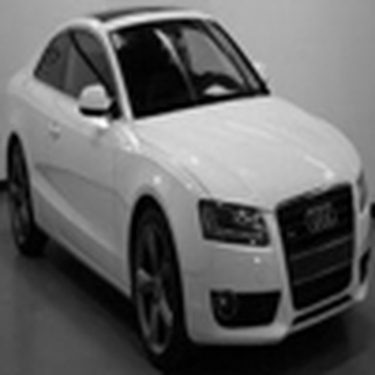car: (1, 4, 370, 337)
